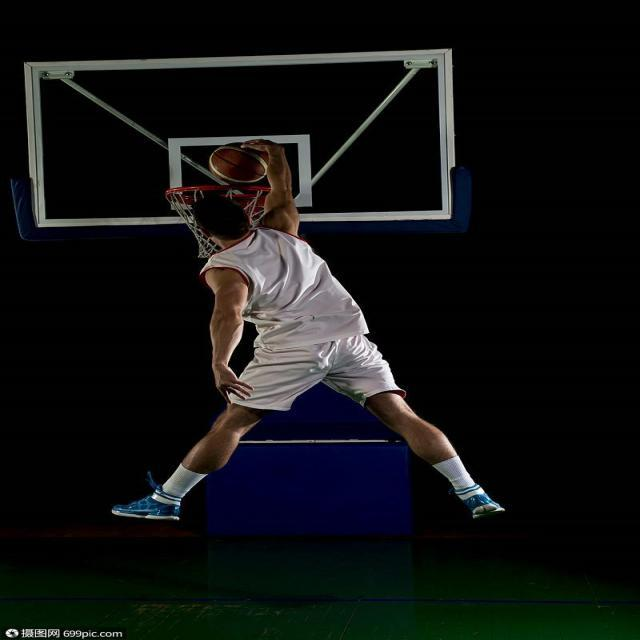rim: (208, 144, 271, 184)
